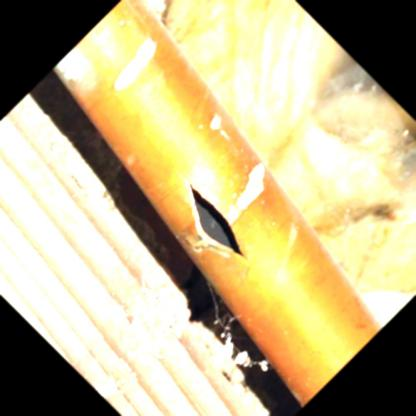burst: (179, 186, 262, 275)
